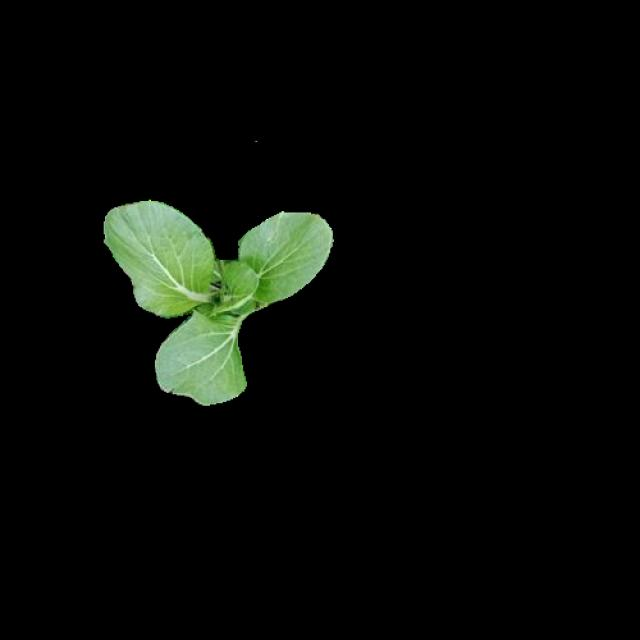healthy: (100, 200, 334, 406)
not-mature: (100, 201, 334, 403)
